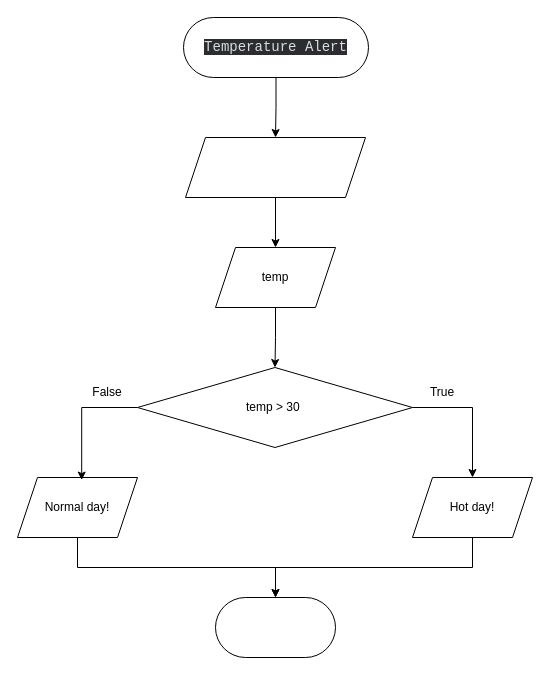
Some shapes in this 550 by 675 pixel diagram are drawn without their labels. The centre of each missing label's shape, as x and y in pixels:
END: point (275, 627)
Enter temperature >>>: point (275, 167)
